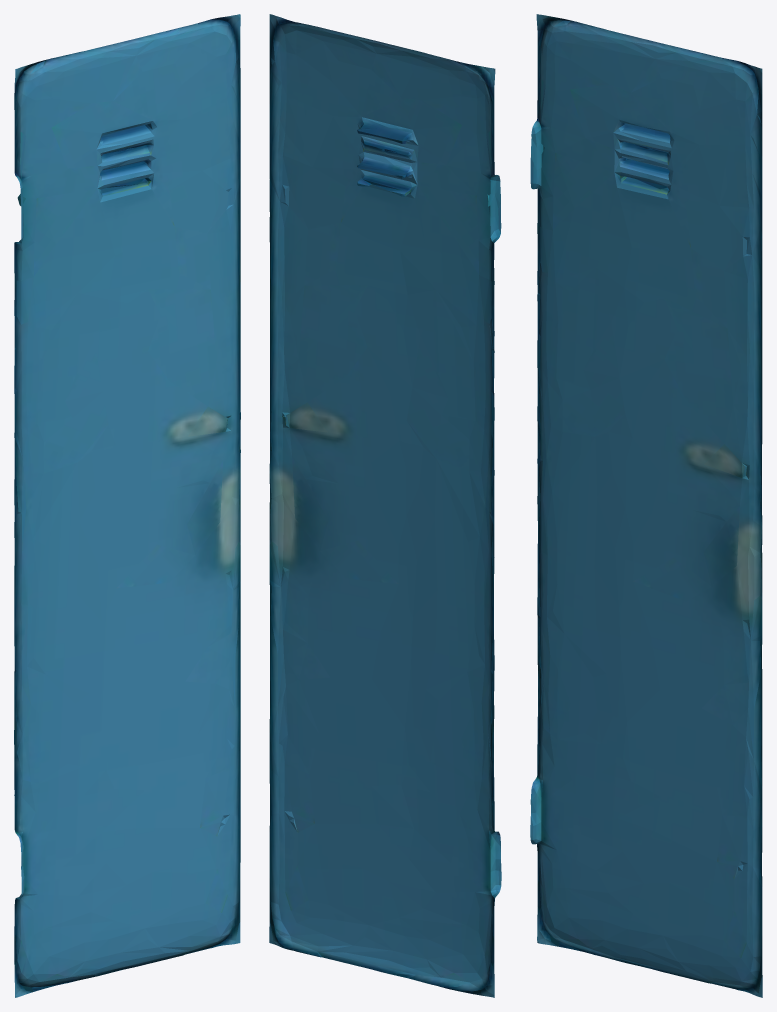
Rendered from door_left.glb.
3 renders of one model, left to right at view 1: azimuth 30°, elevation 25°; view 2: azimuth 150°, elevation 25°; view 3: azimuth 330°, elevation 25°, orthographic.
Visible parts, largest first — view 1: source_surface_0; view 2: source_surface_0; view 3: source_surface_0.
Boxes of the visible parts, x1=… form: source_surface_0: x1=14, y1=14, x2=240, y2=997; source_surface_0: x1=269, y1=14, x2=501, y2=997; source_surface_0: x1=530, y1=14, x2=762, y2=997.
Size of the model in its own units: 0.0645 by 0.254 by 0.00651.
1 material, 1 textured.
